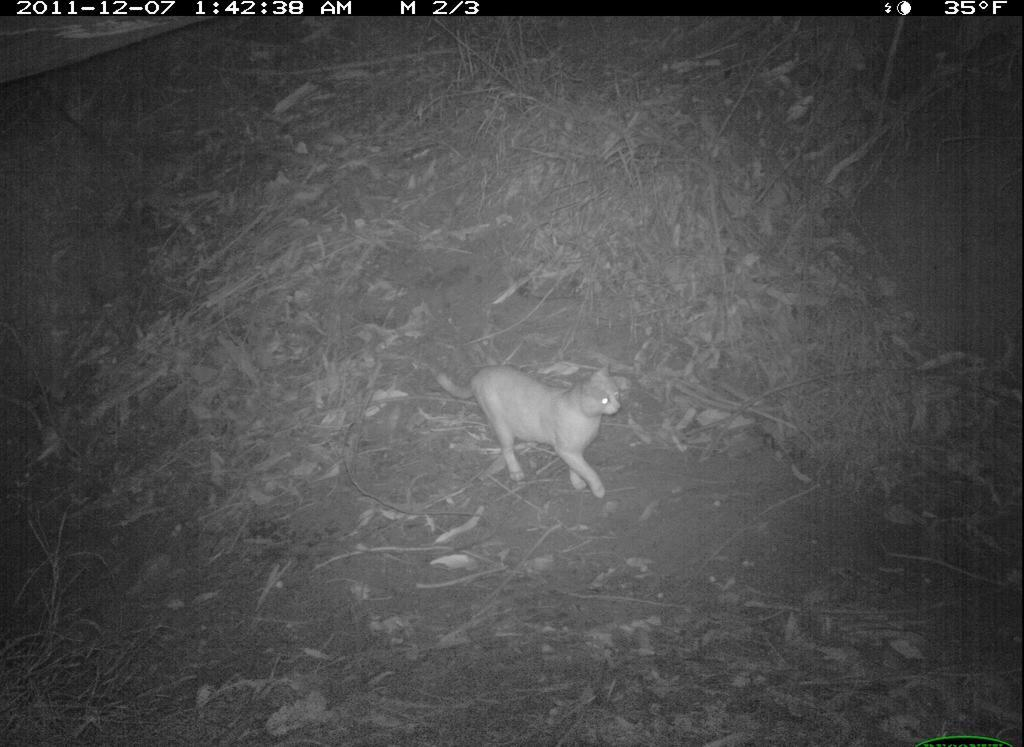cat: (413, 340, 638, 514)
